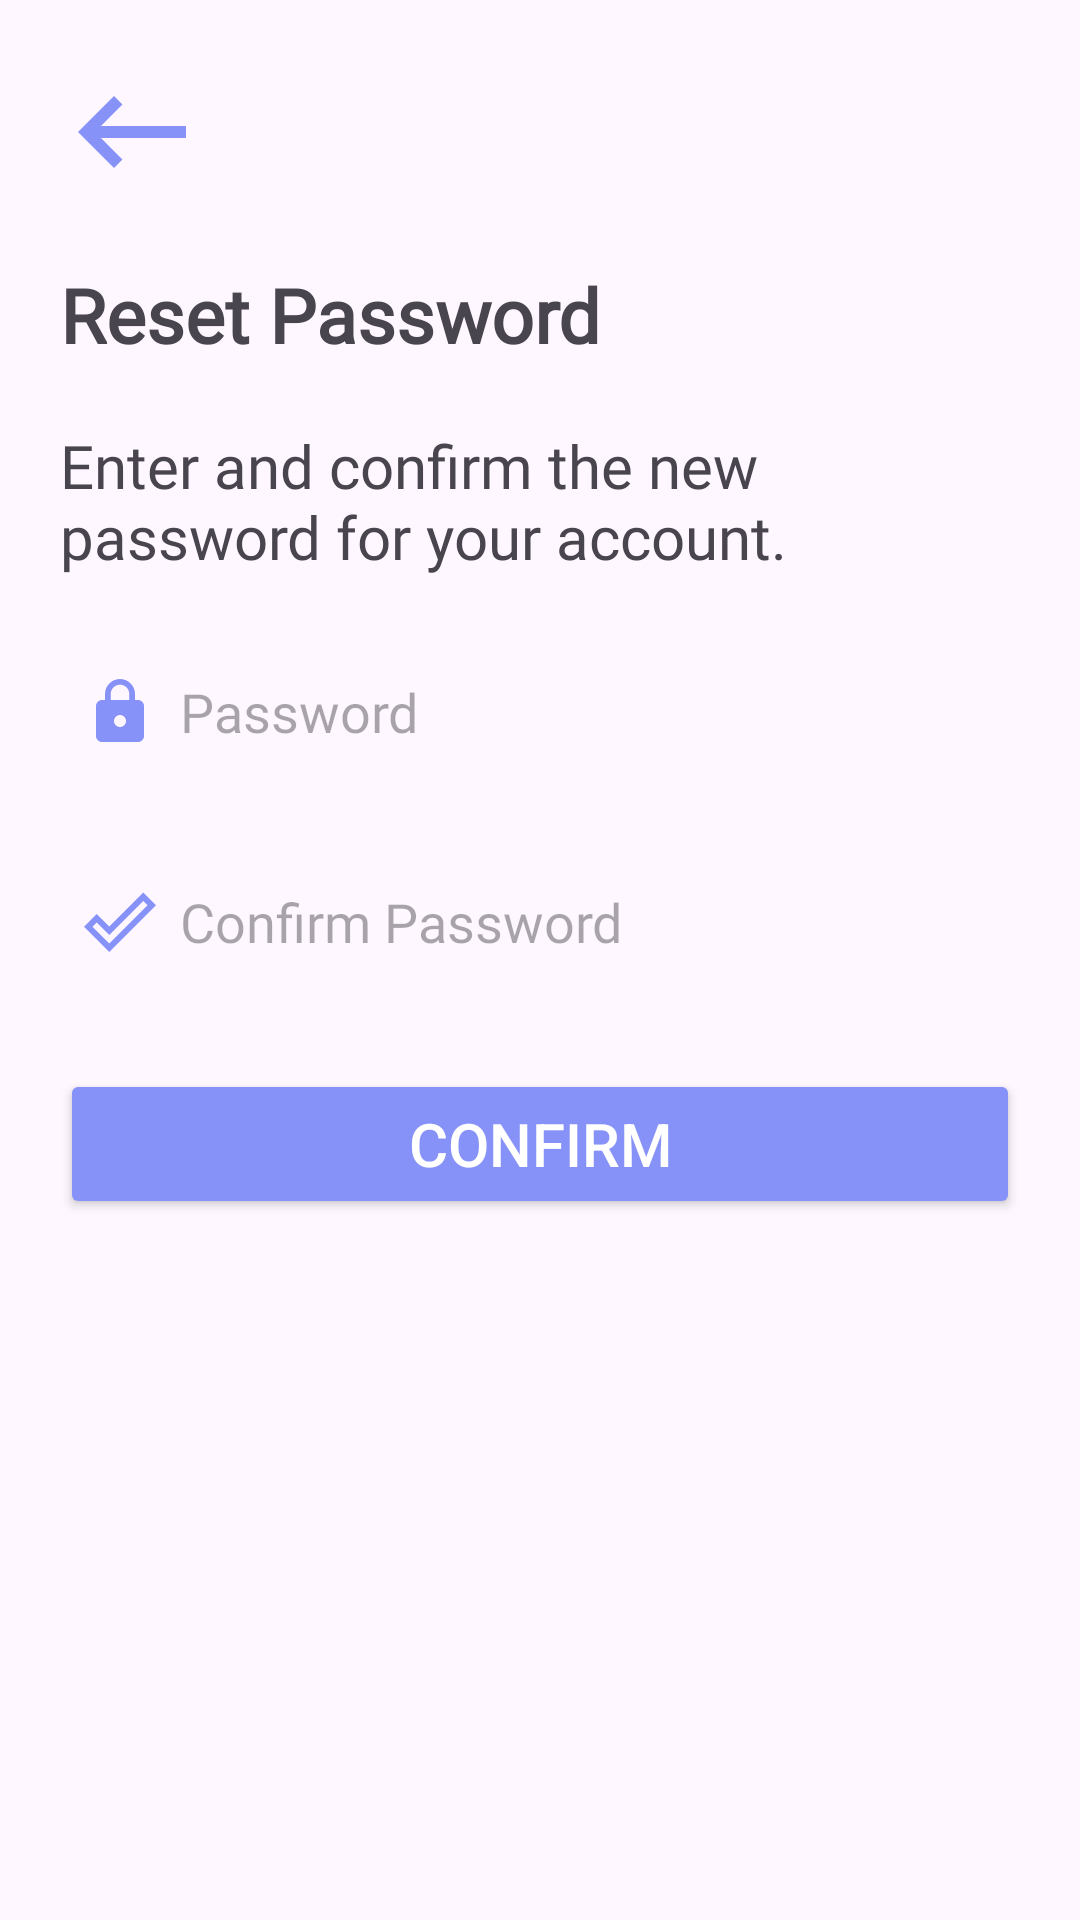

Point at icon controls on the screen. Image size 1080w x 1920h, points as point (x, y).
back: point (132, 132)
